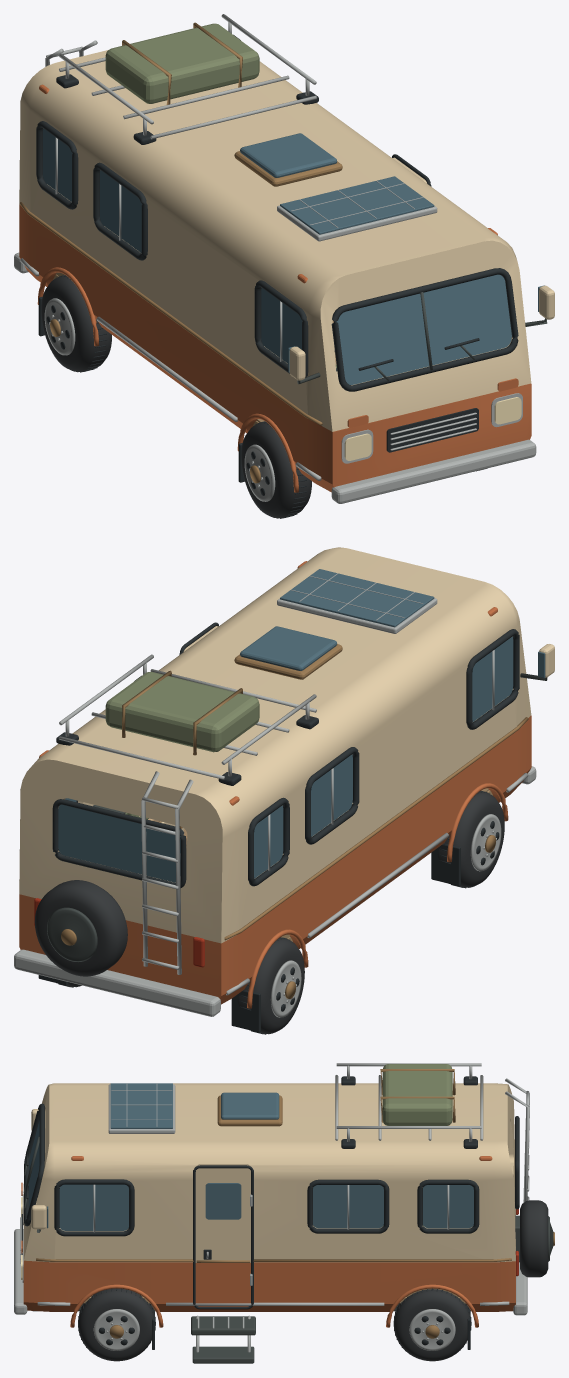
File: rv-body-study.fbx
3 views of the same model, one above another, from view 1: azimuth 30°, elevation 25°; view 2: azimuth 150°, elevation 25°; view 3: azimuth 270°, elevation 25° (orthographic). The views are drawn at different scales.
Parts seen in each view (by area): view 1: GEO-coach_body_shell, GEO-windscreen, GEO-roof_storage_case, GEO-solar_panel, GEO-front_bumper, GEO-windscreen_seal, GEO-road_tyre.001, GEO-road_tyre, GEO-roof_skylight_lid, GEO-window_glass.001, GEO-window_glass, GEO-front_grille_recess (+16 smaller); view 2: GEO-coach_body_shell, GEO-roof_storage_case, GEO-rear_window_glass, GEO-spare_tyre, GEO-solar_panel, GEO-rear_bumper, GEO-roof_skylight_lid, GEO-road_tyre.001, GEO-road_tyre, GEO-window_glass, GEO-window_glass.001, GEO-rear_window_seal (+18 smaller); view 3: GEO-coach_body_shell, GEO-entry_door, GEO-roof_storage_case, GEO-window_glass.003, GEO-window_glass.004, GEO-road_tyre.002, GEO-road_tyre.003, GEO-solar_panel, GEO-window_glass.005, GEO-spare_tyre, GEO-roof_skylight_lid, GEO-window_rubber.003 (+24 smaller).
Boxes of the visible parts, left/top/right/bottom form: GEO-coach_body_shell: left=19, top=50, right=531, bottom=492; GEO-windscreen: left=336, top=274, right=511, bottom=384; GEO-roof_storage_case: left=105, top=23, right=259, bottom=103; GEO-solar_panel: left=280, top=176, right=434, bottom=234; GEO-front_bumper: left=331, top=439, right=536, bottom=503; GEO-windscreen_seal: left=331, top=268, right=518, bottom=391; GEO-road_tyre.001: left=41, top=275, right=111, bottom=371; GEO-road_tyre: left=241, top=422, right=311, bottom=518; GEO-roof_skylight_lid: left=240, top=133, right=337, bottom=177; GEO-window_glass.001: left=100, top=170, right=141, bottom=252; GEO-window_glass: left=261, top=288, right=302, bottom=363; GEO-front_grille_recess: left=386, top=408, right=478, bottom=452; GEO-coach_body_shell: left=19, top=547, right=531, bottom=1004; GEO-roof_storage_case: left=105, top=671, right=259, bottom=752; GEO-rear_window_glass: left=58, top=804, right=180, bottom=882; GEO-spare_tyre: left=34, top=880, right=127, bottom=976; GEO-solar_panel: left=280, top=569, right=434, bottom=627; GEO-rear_bumper: left=14, top=949, right=220, bottom=1016; GEO-roof_skylight_lid: left=240, top=626, right=337, bottom=670; GEO-road_tyre.001: left=237, top=938, right=304, bottom=1033; GEO-road_tyre: left=437, top=791, right=504, bottom=887; GEO-window_glass: left=472, top=636, right=513, bottom=721; GEO-window_glass.001: left=311, top=754, right=352, bottom=836; GEO-rear_window_seal: left=52, top=799, right=186, bottom=887; GEO-coach_body_shell: left=23, top=1083, right=515, bottom=1311; GEO-entry_door: left=195, top=1168, right=250, bottom=1306; GEO-roof_storage_case: left=382, top=1064, right=452, bottom=1125; GEO-window_glass.003: left=59, top=1184, right=128, bottom=1230; GEO-window_glass.004: left=313, top=1185, right=383, bottom=1228; GEO-road_tyre.002: left=78, top=1288, right=155, bottom=1361; GEO-road_tyre.003: left=394, top=1289, right=470, bottom=1361; GEO-solar_panel: left=110, top=1083, right=172, bottom=1128; GEO-window_glass.005: left=423, top=1185, right=473, bottom=1228; GEO-spare_tyre: left=520, top=1200, right=548, bottom=1277; GEO-roof_skylight_lid: left=221, top=1092, right=279, bottom=1119; GEO-window_rubber.003: left=54, top=1179, right=134, bottom=1236.
Bounding box in the file's own units: 3.15 × 3.17 × 6.5.
